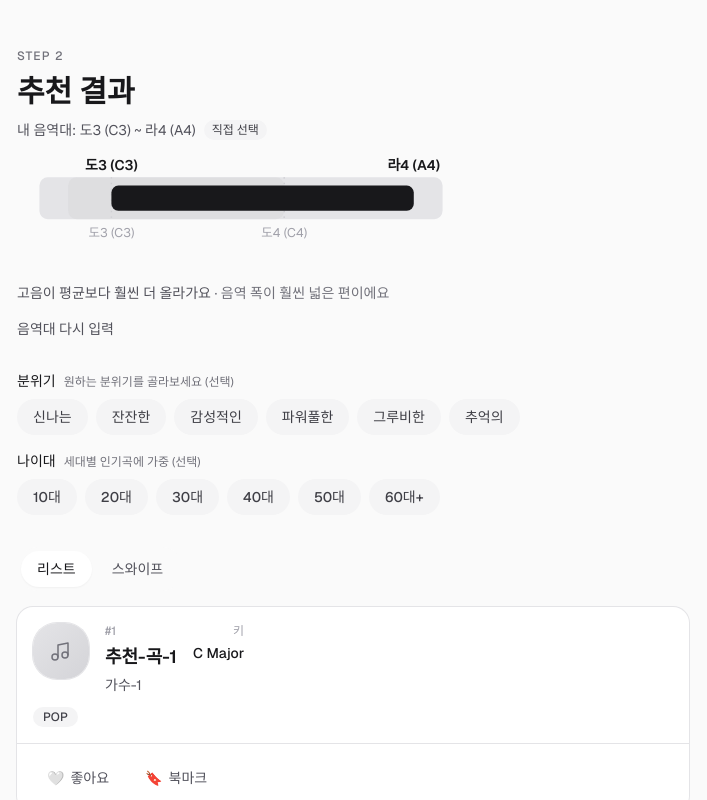
it: /recommend 페이지 — Button UI reflect 통합 가드 (PR #993 후속) › 시나리오 B — 401 ApiError 시 alert 노출 › BookmarkButton: 401 ApiError → 북마크 한국어 안내 alert + aria-live=assertive
Click the button with aria-label "추천-곡-1 북마크" at (176, 778), box [131,756,221,799]
(page scrolled)
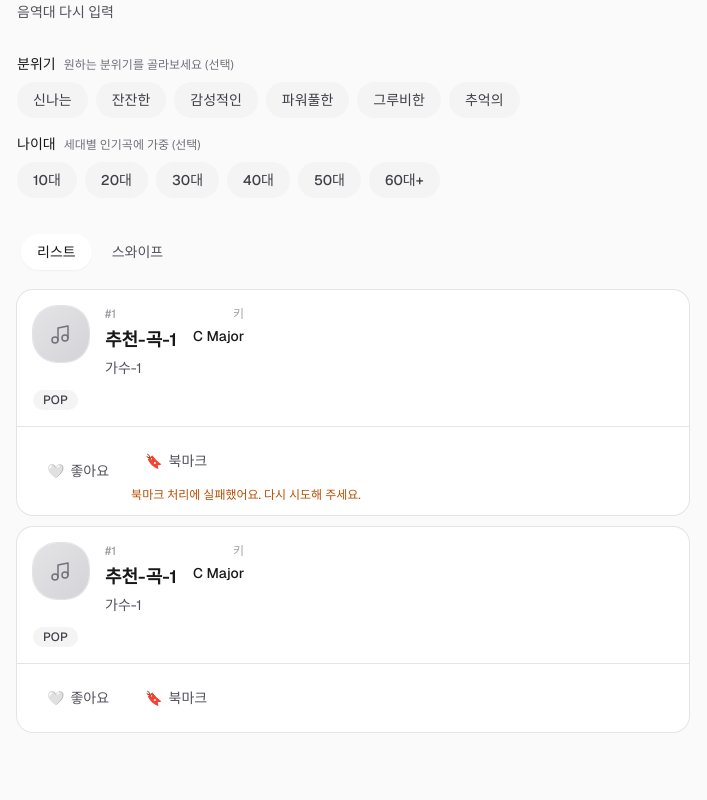
expect the message shows "북마크 처리에 실패했어요": met, box [131,487,361,503]
